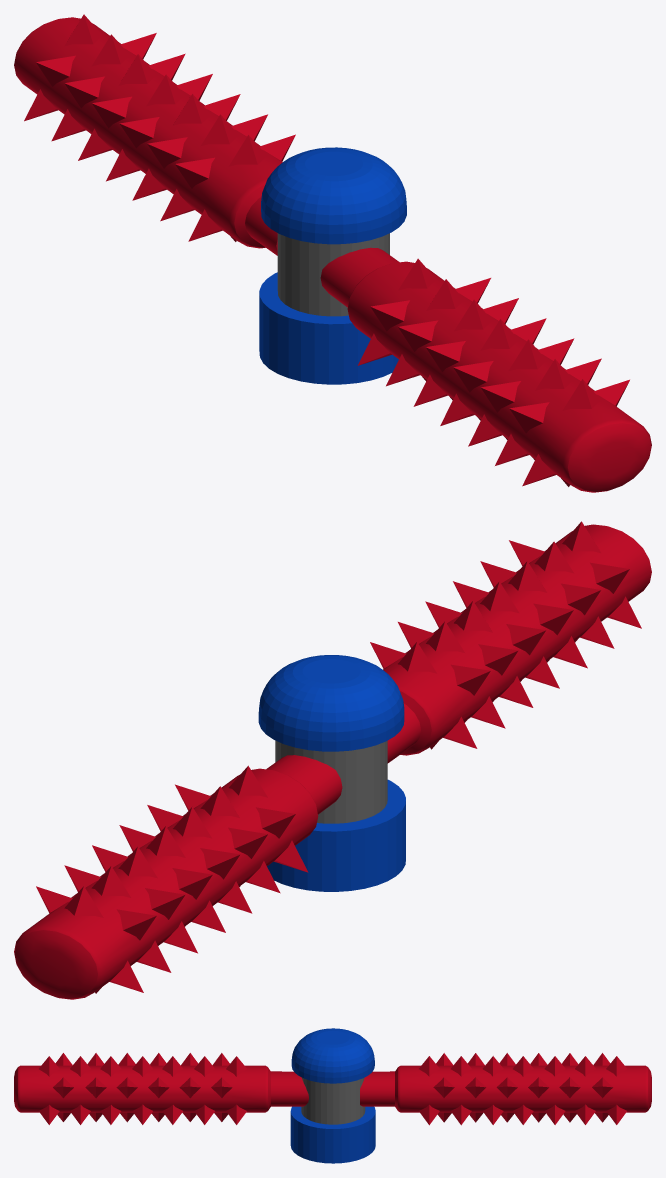
The model's file is Obstcale_04.fbx.
3 renders of one model, top to bottom at view 1: azimuth 30°, elevation 25°; view 2: azimuth 150°, elevation 25°; view 3: azimuth 270°, elevation 25°, orthographic. The views are drawn at different scales.
Parts seen in each view (by area): view 1: polySurface19.001, Circle.008; view 2: polySurface19.001, Circle.008; view 3: polySurface19.001, Circle.008.
Part boxes in pixels (x1,y1,x2,y2): polySurface19.001: (14, 14, 651, 492); Circle.008: (259, 147, 406, 384); polySurface19.001: (14, 521, 651, 999); Circle.008: (258, 655, 405, 891); polySurface19.001: (14, 1053, 651, 1125); Circle.008: (290, 1028, 375, 1163).
Bounding box in the file's own units: 200 × 280 × 1500.
